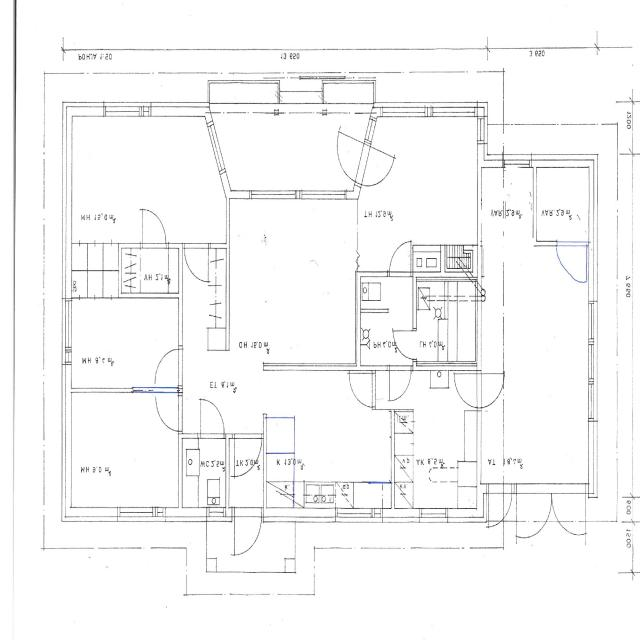door: (328, 131, 371, 184), (356, 144, 398, 196), (551, 483, 586, 542), (517, 483, 551, 542), (556, 241, 587, 288), (234, 508, 262, 560), (235, 433, 262, 476), (153, 349, 183, 385), (154, 395, 183, 431), (477, 373, 505, 408), (453, 373, 481, 408), (489, 484, 512, 526), (348, 373, 376, 407), (184, 243, 207, 282), (143, 210, 166, 248), (201, 400, 224, 438), (390, 365, 411, 401), (389, 242, 411, 276), (393, 330, 417, 359)
